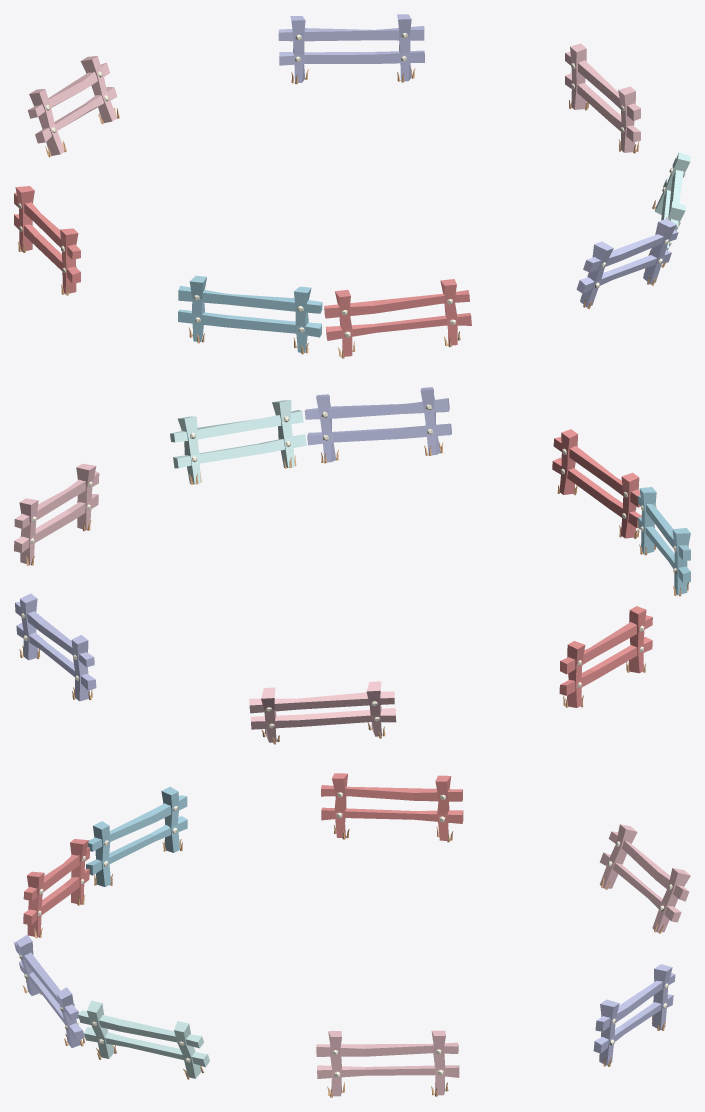
Rendered from fence-mutiple-colors.gltf.
3 views of the same model, one above another, from view 1: azimuth 30°, elevation 25°; view 2: azimuth 150°, elevation 25°; view 3: azimuth 270°, elevation 25° (orthographic). The views are drawn at different scales.
Visible parts, largest first — view 1: Cube.075, Cube.080, Cube.076, Cube.073, Cube.079, Cube.077, Cube.074, Cube.078; view 2: Cube.077, Cube.073, Cube.078, Cube.074, Cube.076, Cube.079, Cube.080, Cube.075; view 3: Cube.074, Cube.079, Cube.078, Cube.075, Cube.073, Cube.080, Cube.076, Cube.077.
Boxes of the visible parts, x1,y1,x2,y2 form: Cube.075: (178, 275, 322, 354); Cube.080: (278, 14, 424, 84); Cube.076: (324, 279, 471, 358); Cube.073: (27, 56, 119, 157); Cube.079: (565, 43, 640, 153); Cube.077: (576, 218, 678, 308); Cube.074: (14, 186, 80, 295); Cube.078: (648, 152, 690, 267); Cube.077: (304, 387, 451, 463); Cube.073: (249, 681, 396, 744); Cube.078: (170, 400, 306, 484); Cube.074: (559, 606, 652, 707); Cube.076: (552, 429, 641, 538); Cube.079: (14, 463, 99, 565); Cube.080: (15, 593, 96, 701); Cube.075: (638, 487, 690, 596); Cube.074: (321, 773, 463, 842); Cube.079: (316, 1030, 459, 1097); Cube.078: (78, 1000, 209, 1079); Cube.075: (86, 786, 187, 886); Cube.073: (599, 824, 690, 933); Cube.080: (593, 964, 675, 1066); Cube.076: (23, 839, 89, 938); Cube.077: (14, 934, 84, 1047).
Bounding box in the file's own units: 12.94 × 1.73 × 13.46.
